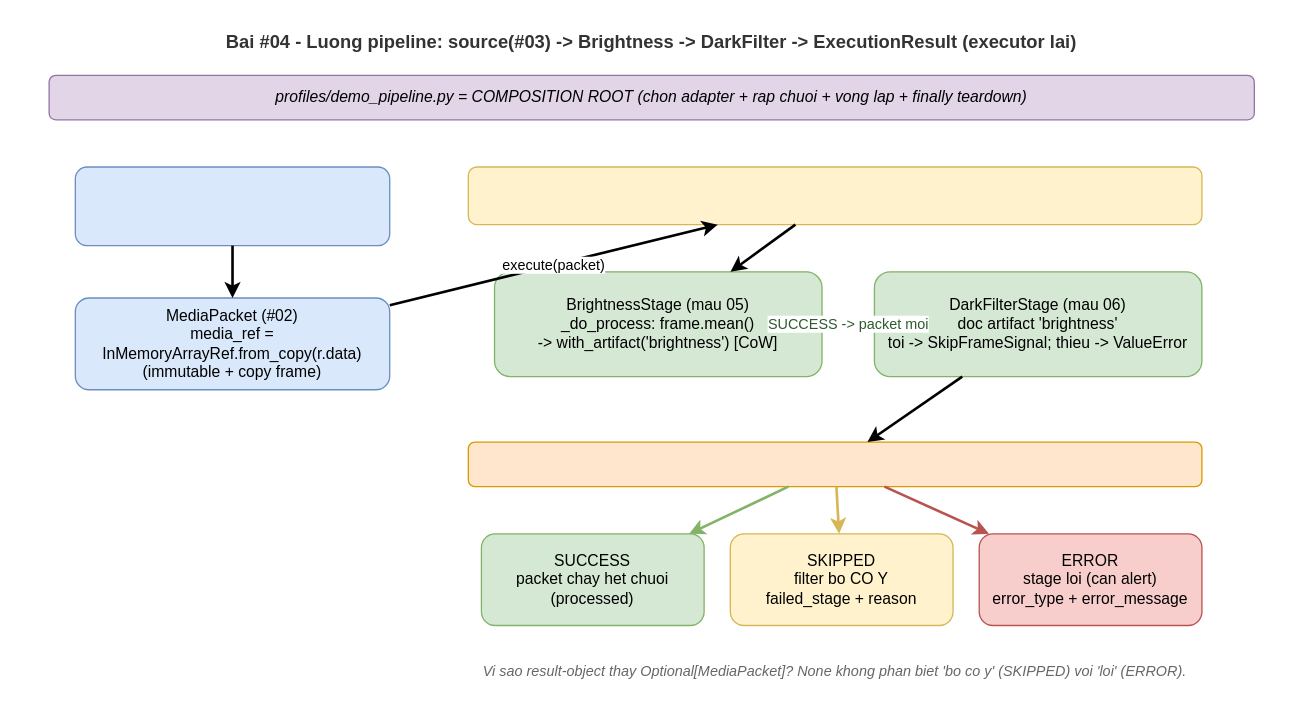
Image size: 1302x713. Some labels were removed from this diagram. Each missing label, with the centre of its shape:
ExecutionResult (mau 02) - result-object giu DU trang thai: (834,464)
source.read() (#03) -> ReadResult(FRAME/EOF/ERROR): (232,206)
SyncLinearExecutor.execute(packet) chay tuyen tinh, dung o non-SUCCESS dau tien: (834,195)
